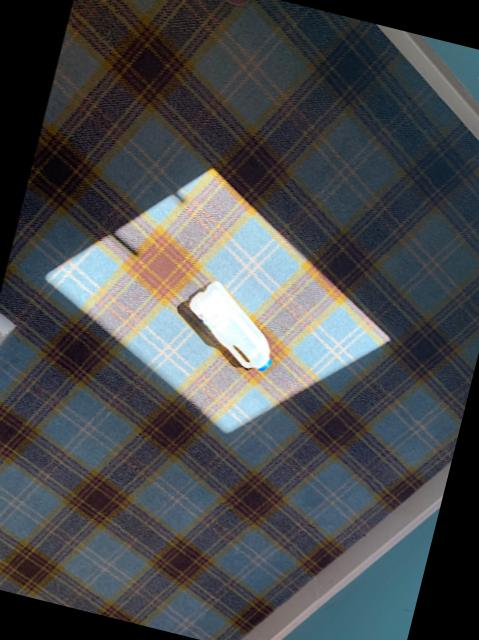plastic: (188, 280, 269, 369)
